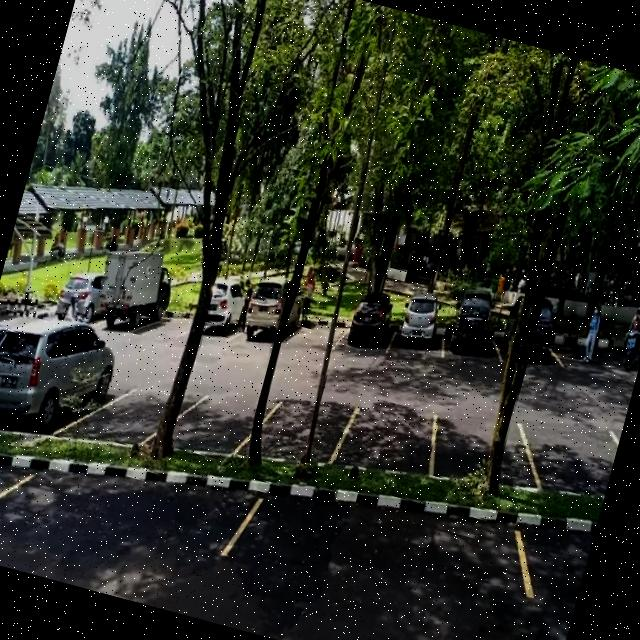empty: (227, 460, 547, 640), (0, 426, 258, 592), (331, 386, 447, 489), (425, 400, 541, 502), (80, 363, 182, 462), (253, 388, 354, 478), (524, 413, 620, 505), (170, 379, 268, 467)
occupied: (0, 318, 120, 451), (332, 294, 400, 362), (438, 301, 506, 368), (388, 296, 454, 364)
